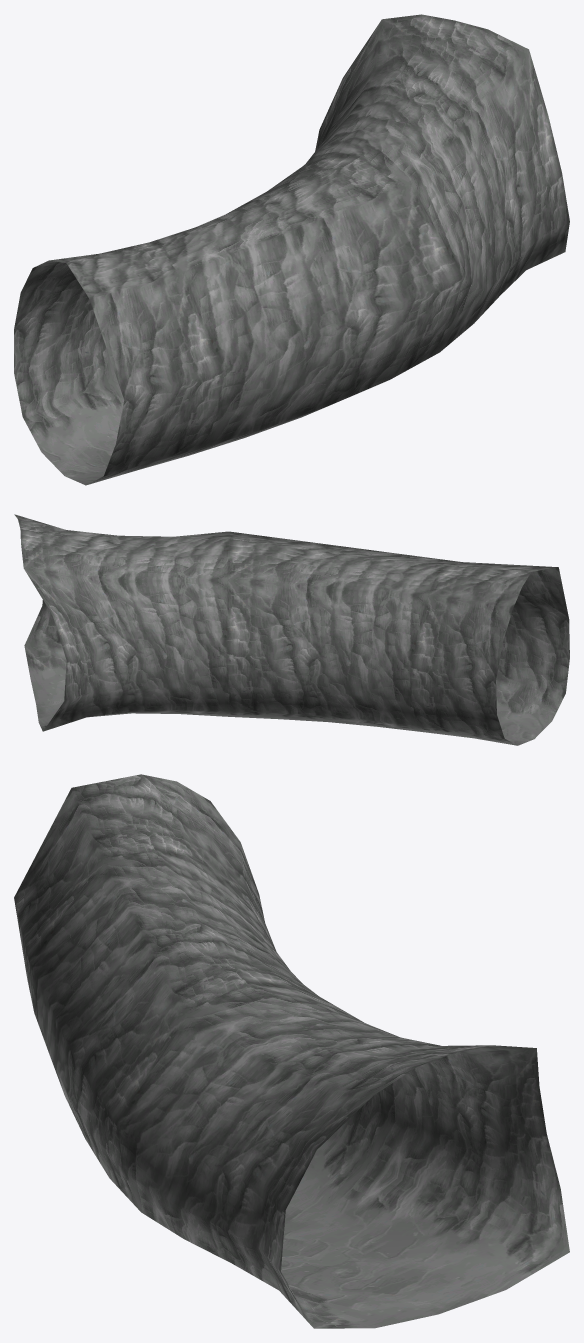
The model's file is SWORDLIGHT20_PS-AREA03-05TRANS_05.fbx.
3 renders of one model, top to bottom at view 1: azimuth 30°, elevation 25°; view 2: azimuth 150°, elevation 25°; view 3: azimuth 270°, elevation 25°, orthographic. The views are drawn at different scales.
Parts seen in each view (by area): view 1: SWORDLIGHT20_PS-AREA03-05TRANS_05; view 2: SWORDLIGHT20_PS-AREA03-05TRANS_05; view 3: SWORDLIGHT20_PS-AREA03-05TRANS_05.
Boxes of the visible parts, x1,y1,x2,y2 form: SWORDLIGHT20_PS-AREA03-05TRANS_05: (14, 14, 569, 485); SWORDLIGHT20_PS-AREA03-05TRANS_05: (14, 514, 569, 745); SWORDLIGHT20_PS-AREA03-05TRANS_05: (14, 774, 569, 1328).
Bounding box in the file's own units: 167259 × 66446 × 115688.
Materials: 2 (2 with a texture image).
